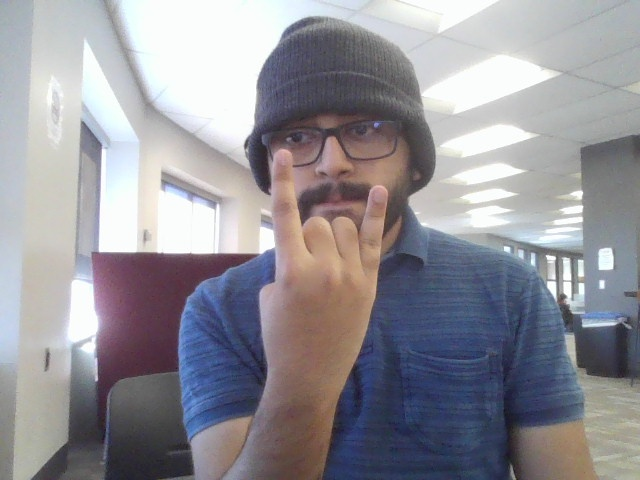help: (238, 149, 409, 384)
